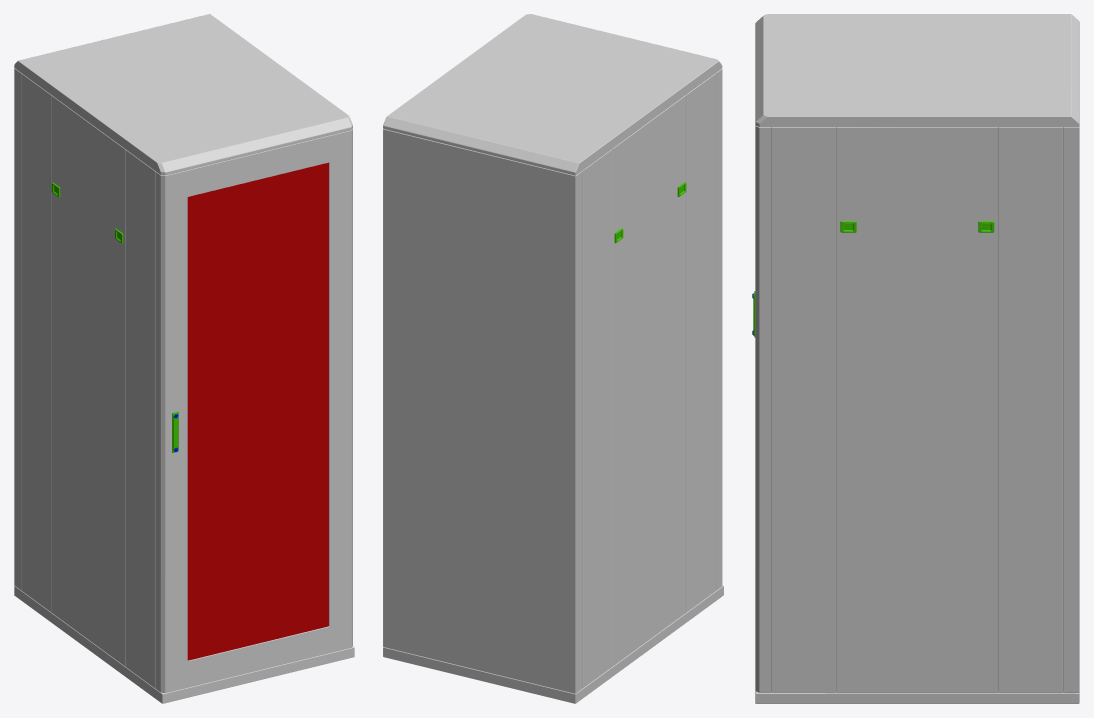
Rendered from ServerRack01.fbx.
3 views of the same model, side by side, from view 1: azimuth 30°, elevation 25°; view 2: azimuth 150°, elevation 25°; view 3: azimuth 270°, elevation 25° (orthographic). The views are drawn at different scales.
Parts seen in each view (by area): view 1: ServerRack01; view 2: ServerRack01; view 3: ServerRack01.
Boxes of the visible parts, box(x1,y1,x2,y2) form: ServerRack01: box(14, 14, 354, 703); ServerRack01: box(383, 14, 723, 703); ServerRack01: box(752, 14, 1079, 703).
Size of the model in its own units: 76.1 by 200 by 101.
